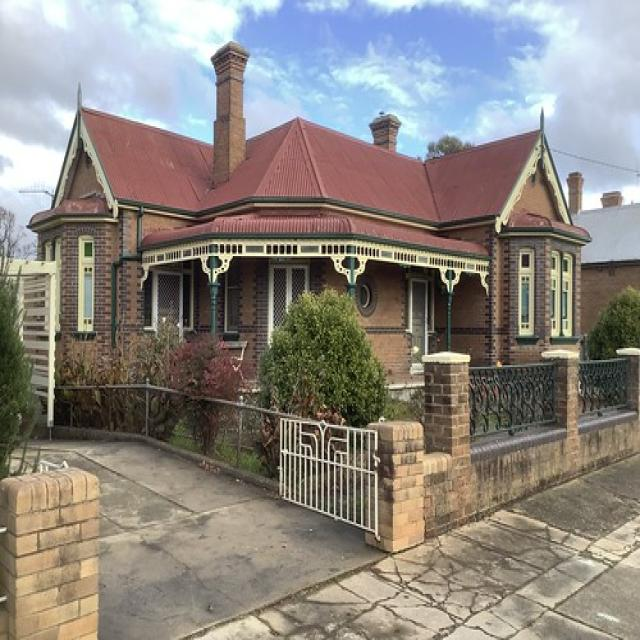building: (24, 26, 592, 558)
